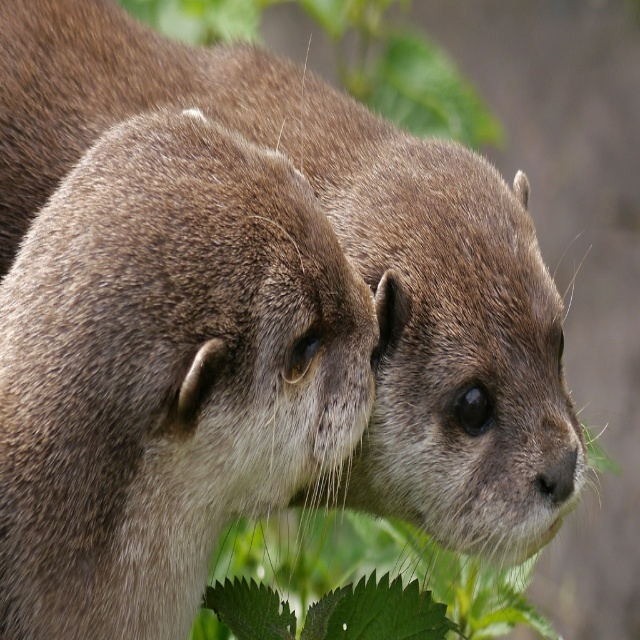Otter: (0, 105, 381, 639)
